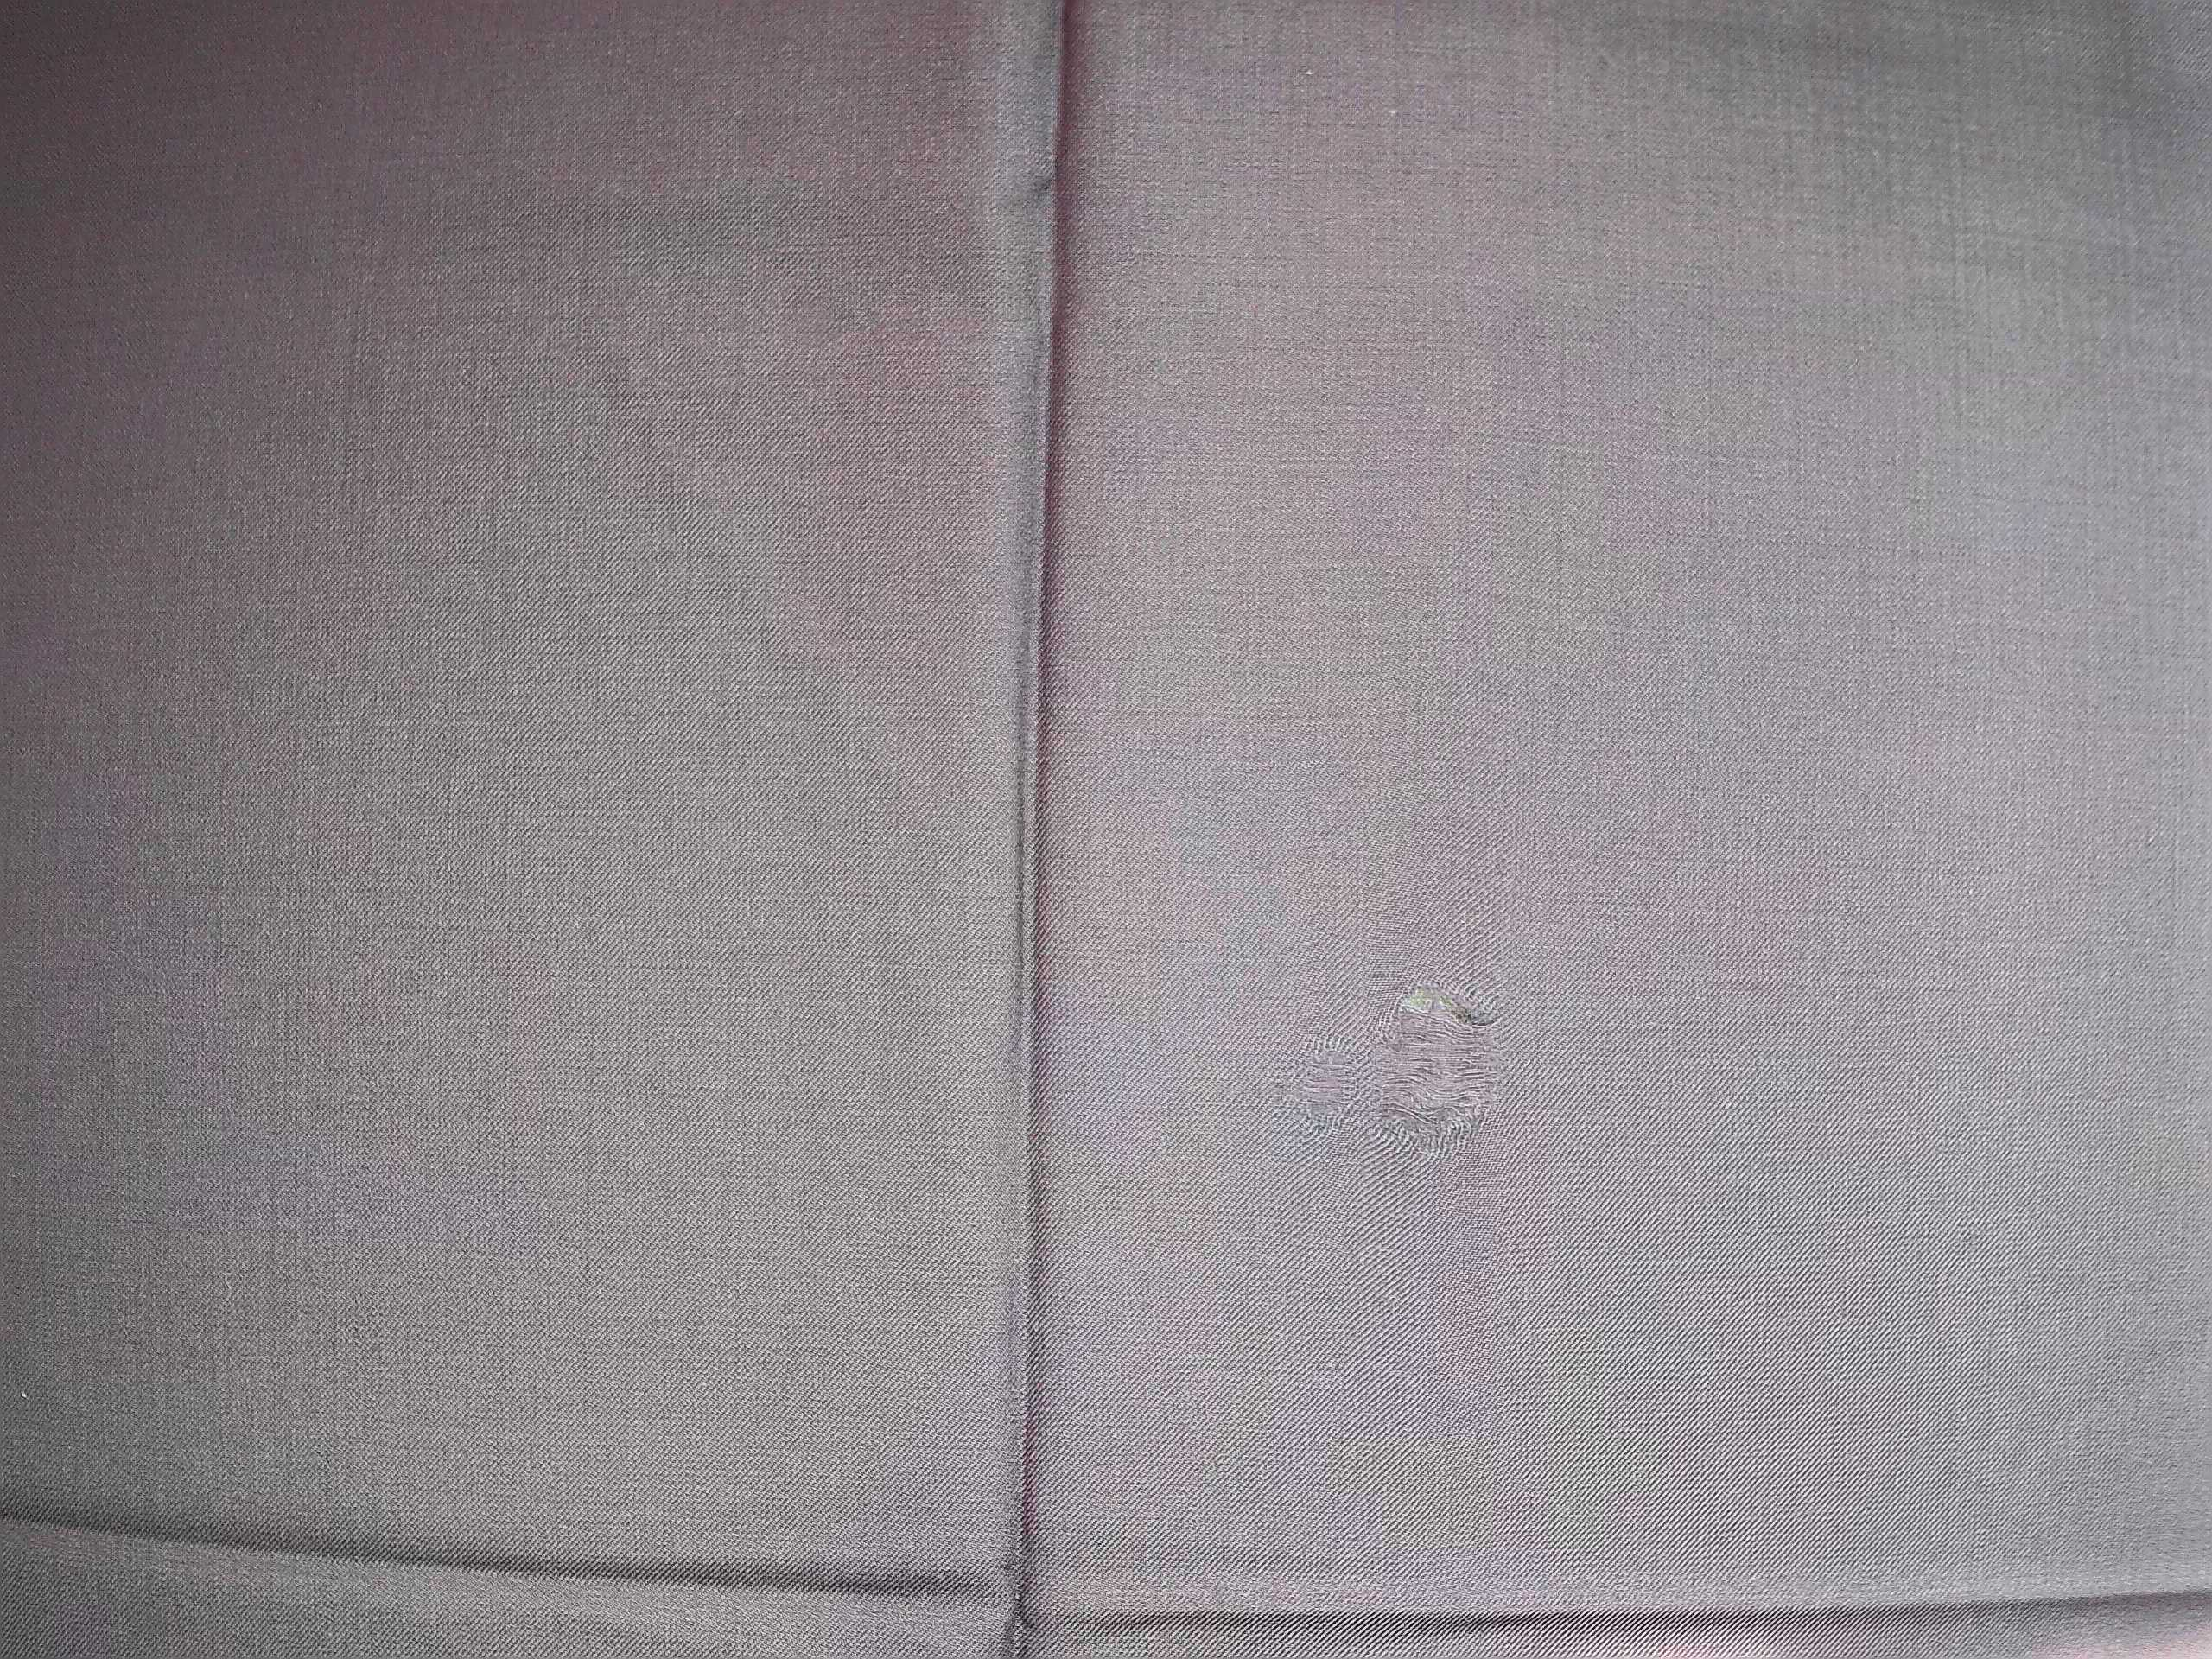brushed-hole: (1303, 817, 1566, 1364)
